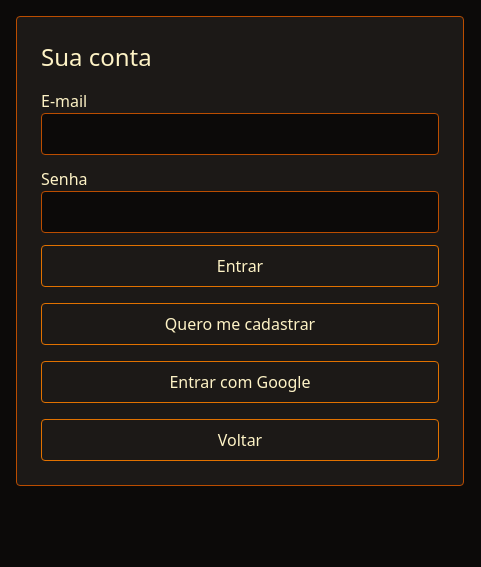
reports a conflicting account instead of merging it
The width and height of the screenshot is (481, 567).
In the field labelled "E-mail": (240, 134) [41, 113, 439, 155], type "hero@example.com"
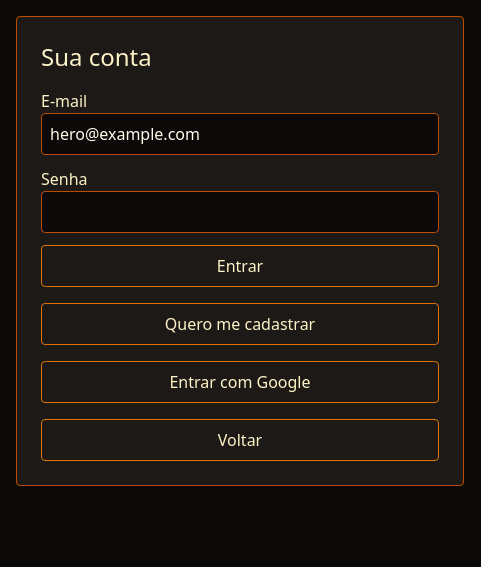
In the password field labelled "Senha": (240, 212) [41, 191, 439, 233], type "123456"
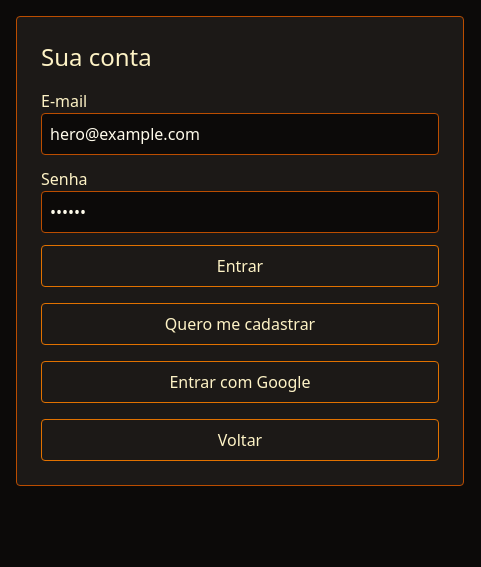
Click the button "Entrar": (240, 266) [41, 245, 439, 287]
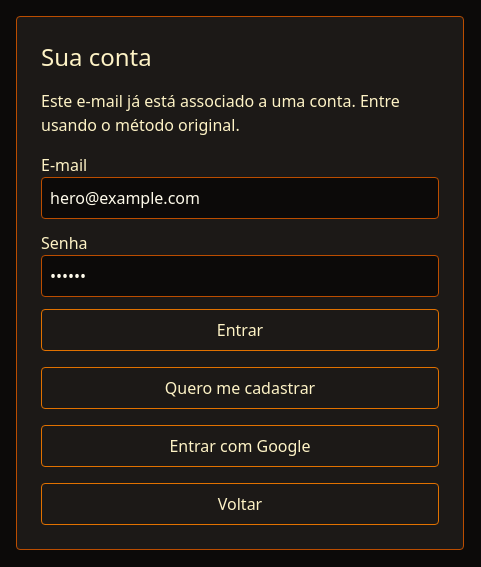
Check: the message shows "já está associado a uma conta", box [41, 90, 400, 136]
